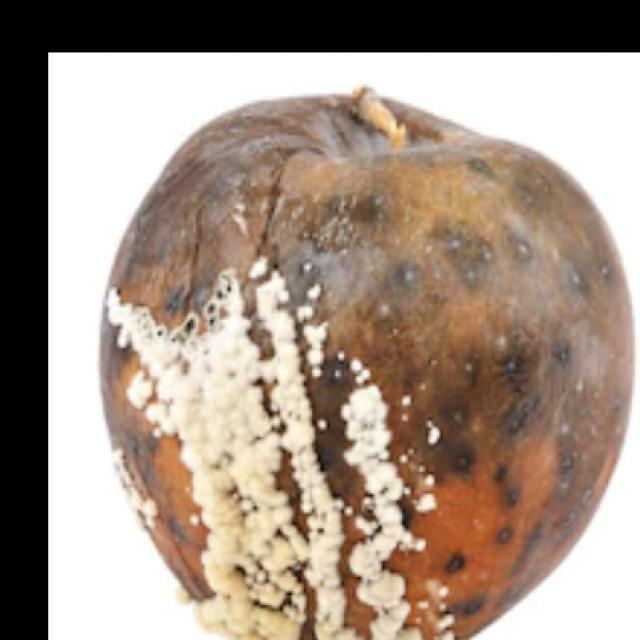Rotten: (88, 88, 633, 640)
